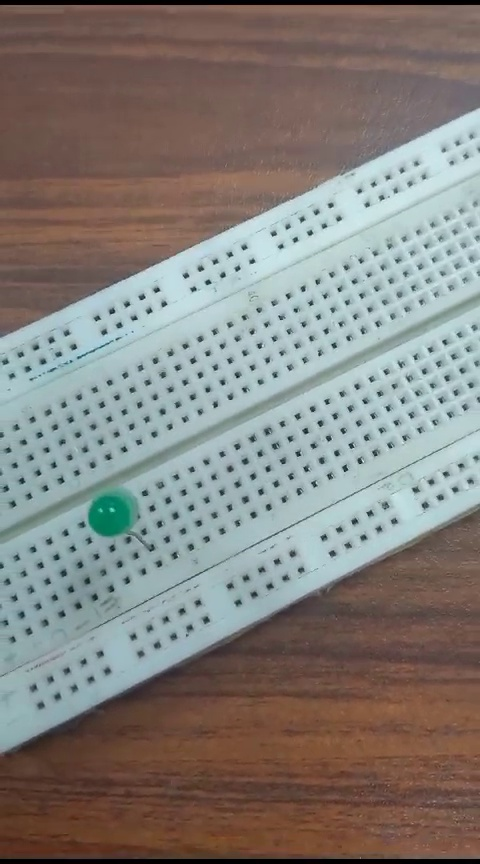LED: (80, 483, 160, 564)
